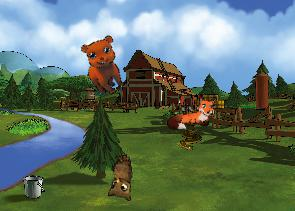bear: (73, 30, 138, 100)
fox: (165, 92, 219, 131)
owl: (101, 153, 136, 203)
